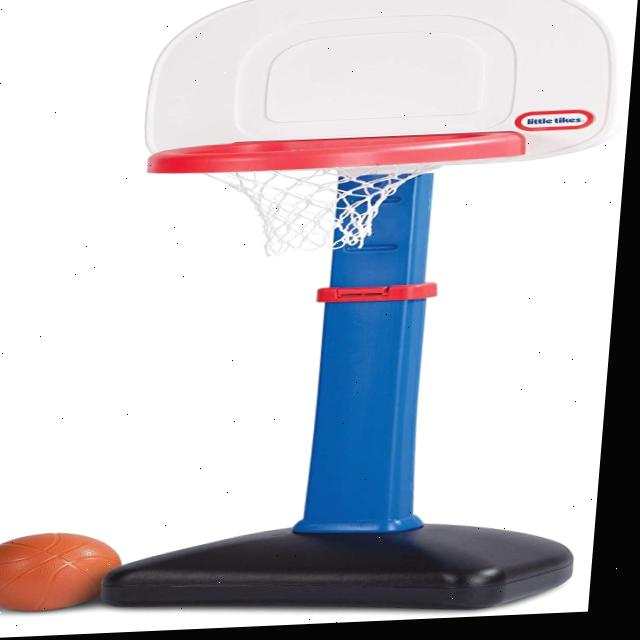basketball: (0, 530, 125, 615)
hoop: (140, 131, 527, 262)
